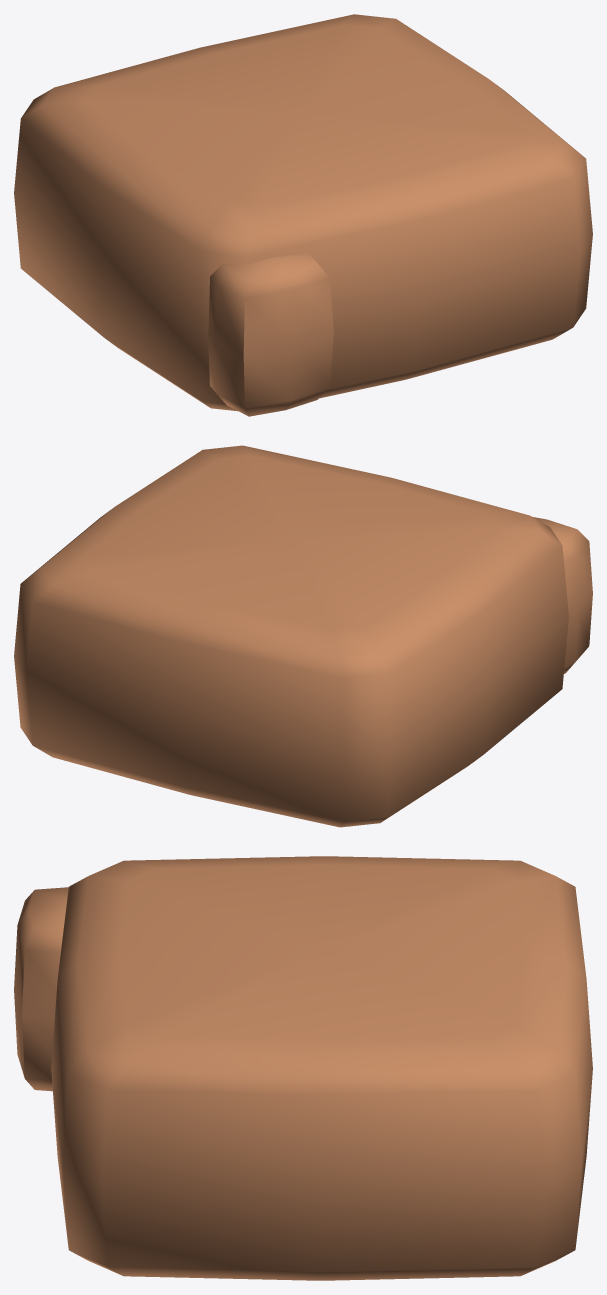
The model's file is Cuerpo_LeftHand.fbx.
3 views of the same model, one above another, from view 1: azimuth 30°, elevation 25°; view 2: azimuth 150°, elevation 25°; view 3: azimuth 270°, elevation 25° (orthographic). The views are drawn at different scales.
Visible parts, largest first — view 1: Cuerpo_LeftHand; view 2: Cuerpo_LeftHand; view 3: Cuerpo_LeftHand.
Part boxes in pixels (left/top/right/bottom): Cuerpo_LeftHand: left=14, top=14, right=592, bottom=416; Cuerpo_LeftHand: left=14, top=445, right=592, bottom=827; Cuerpo_LeftHand: left=14, top=856, right=592, bottom=1280.
Bounding box in the file's own units: 0.8465 × 0.3947 × 0.8792.
